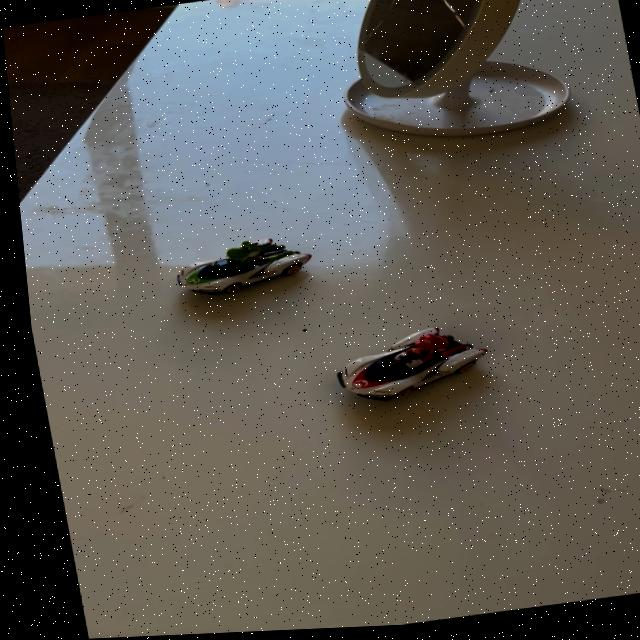mario: (307, 319, 499, 413)
yoshi: (154, 227, 324, 309)
